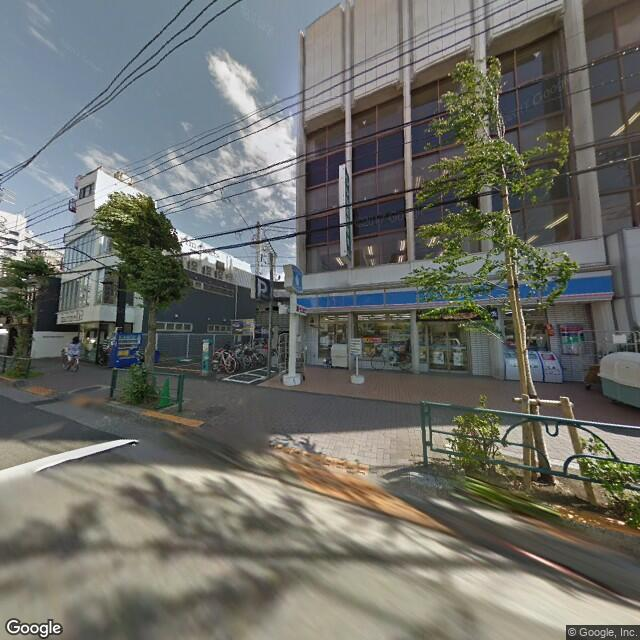lawson: (301, 267, 619, 317), (287, 262, 305, 298)
